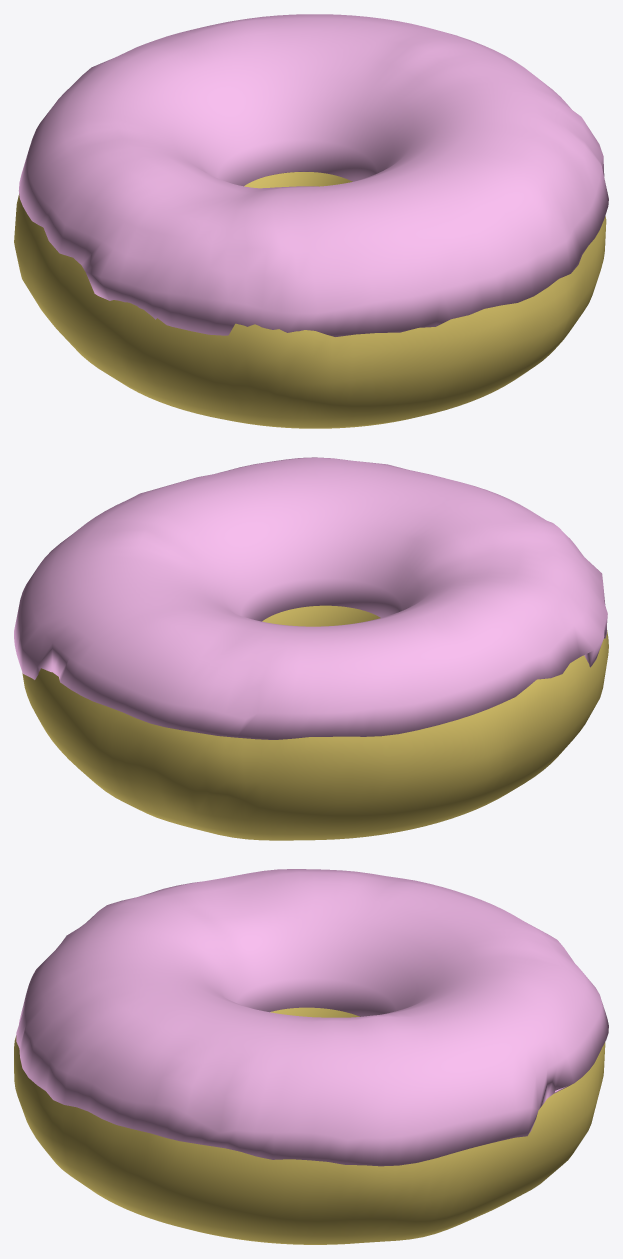
File: donitisi2.fbx
3 views of the same model, one above another, from view 1: azimuth 30°, elevation 25°; view 2: azimuth 150°, elevation 25°; view 3: azimuth 270°, elevation 25° (orthographic). The views are drawn at different scales.
Parts seen in each view (by area): view 1: donitsi.001, donitsi; view 2: donitsi.001, donitsi; view 3: donitsi.001, donitsi.
Boxes of the visible parts, x1,y1,x2,y2 form: donitsi.001: (18,14,608,336); donitsi: (14,172,606,428); donitsi.001: (14,457,607,739); donitsi: (22,605,608,840); donitsi.001: (16,869,608,1166); donitsi: (14,1007,605,1244).
Bounding box in the file's own units: 48.69 × 20.68 × 50.17.
